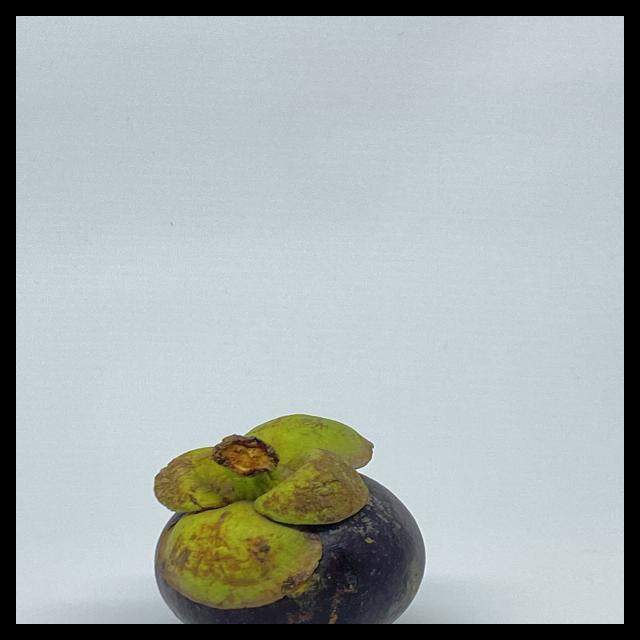mangosteen: (124, 401, 481, 624)
